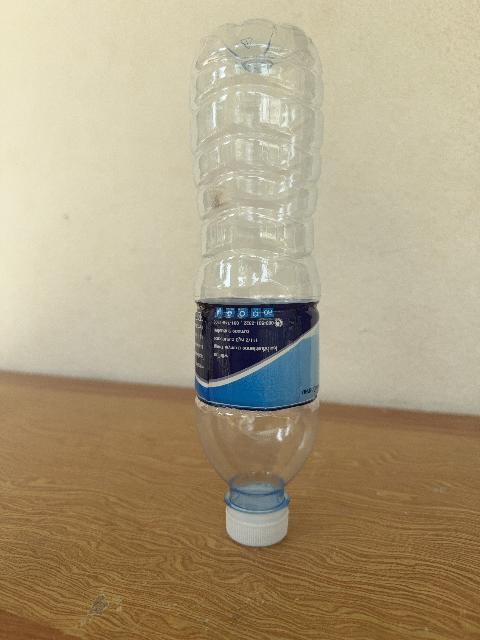bottle: (191, 20, 322, 545)
